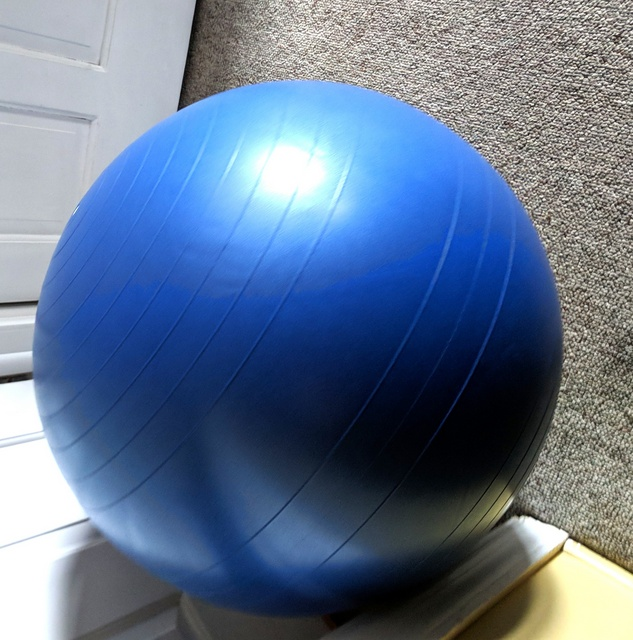ball: (32, 76, 567, 620)
